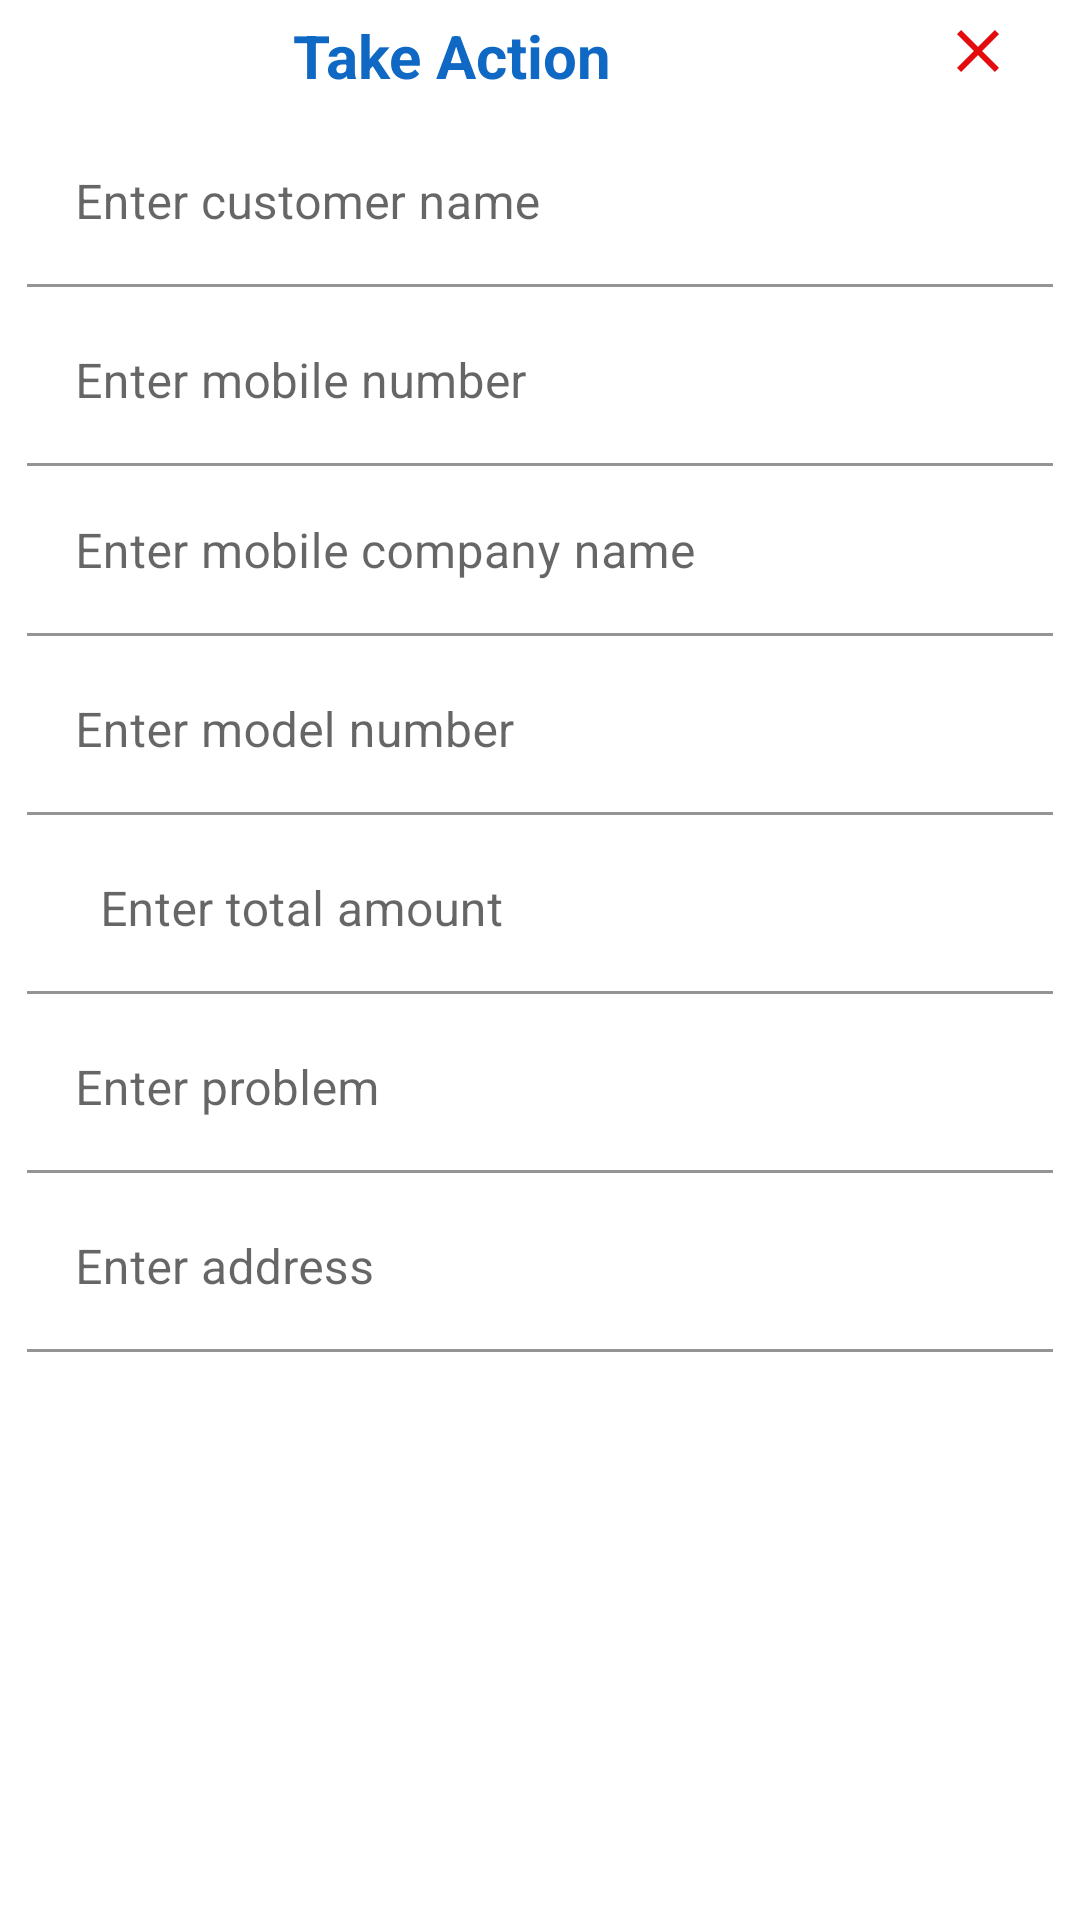

Screen size 1080 × 1920. Icon name, then its center in pixels as [x,y]:
close: [978,51]
